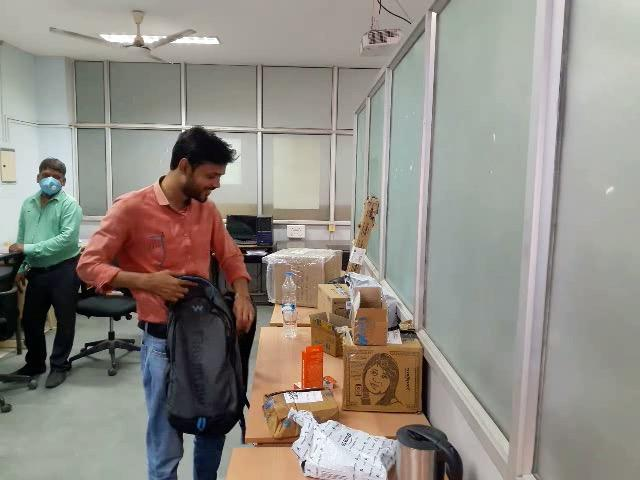shoplifting: (74, 229, 272, 474)
